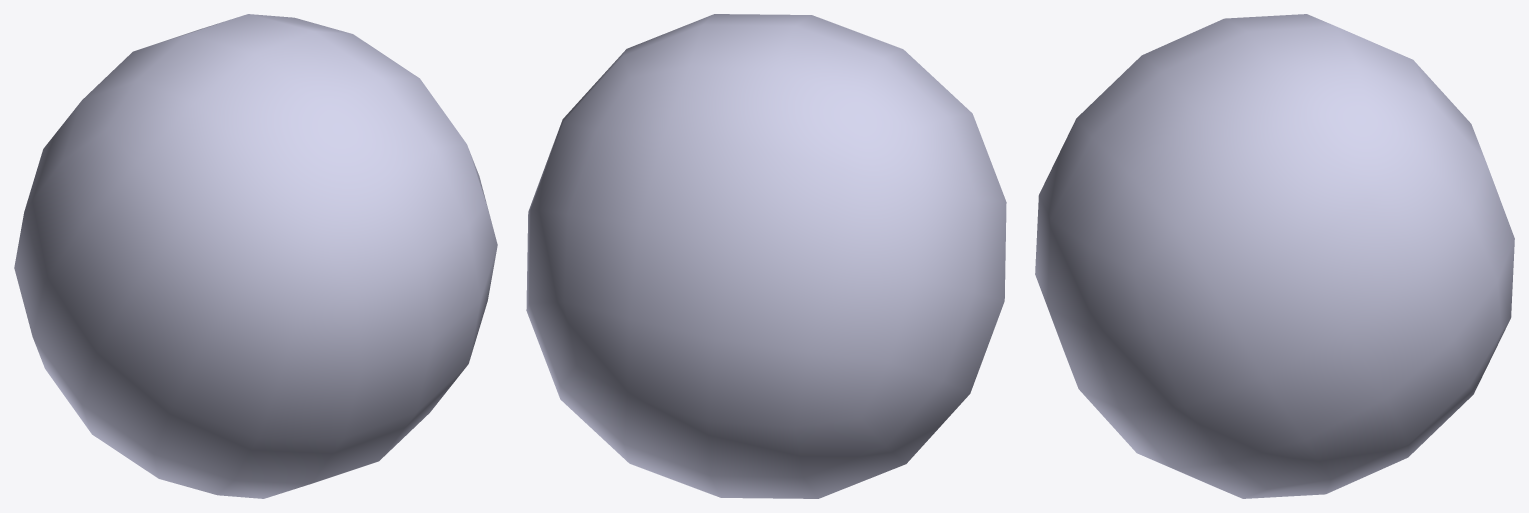
Rendered from BurbujaFlor.fbx.
3 renders of one model, left to right at view 1: azimuth 30°, elevation 25°; view 2: azimuth 150°, elevation 25°; view 3: azimuth 270°, elevation 25°, orthographic. The views are drawn at different scales.
Parts seen in each view (by area): view 1: Cube.050; view 2: Cube.050; view 3: Cube.050.
Boxes of the visible parts, box(x1,y1,x2,y2) form: Cube.050: box(14, 14, 497, 498); Cube.050: box(526, 14, 1006, 498); Cube.050: box(1035, 14, 1514, 498).
Size of the model in its own units: 200 by 200 by 200.
